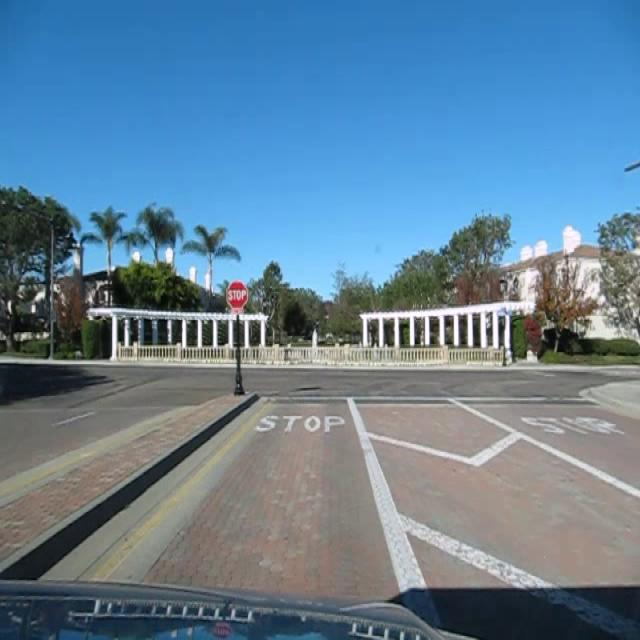stop: (225, 278, 248, 310)
